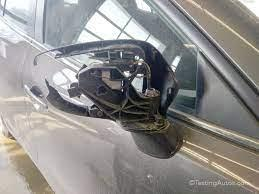Sidemirror-Damage: (32, 46, 179, 123)
